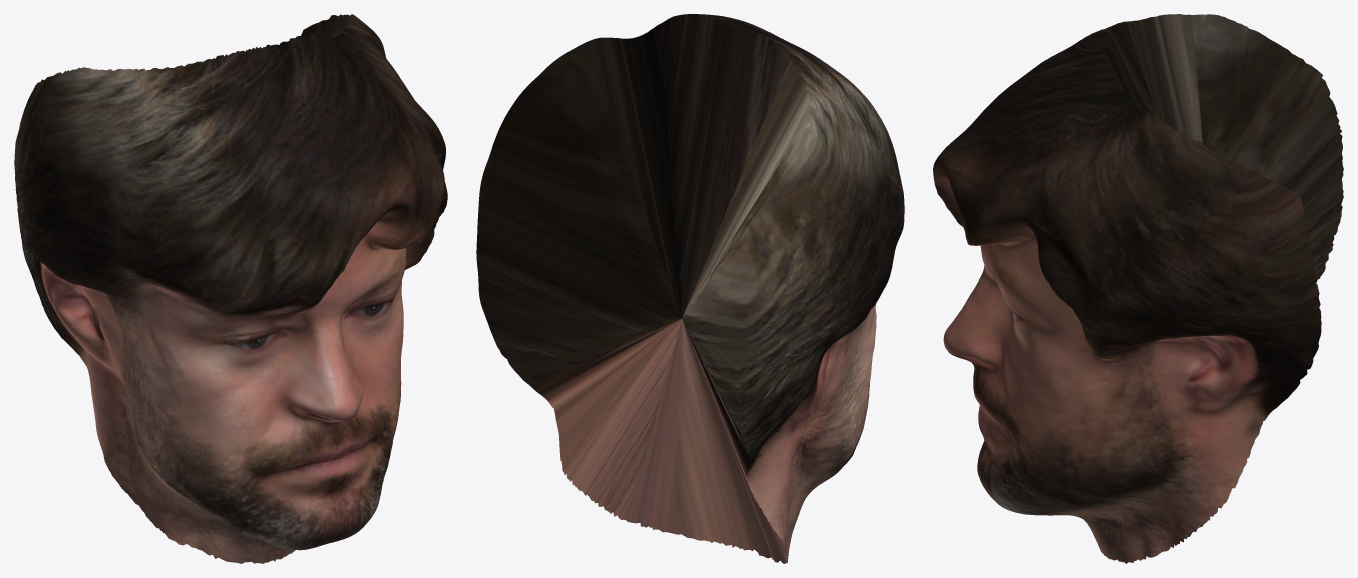
Rendered from aaron.fbx.
The picture shows the model from 3 angles, left to right: view 1: azimuth 30°, elevation 25°; view 2: azimuth 150°, elevation 25°; view 3: azimuth 270°, elevation 25°; orthographic projection. The views are drawn at different scales.
Visible parts, largest first — view 1: head3d:Mesh; view 2: head3d:Mesh; view 3: head3d:Mesh.
Part boxes in pixels (x1,y1,x2,y2): head3d:Mesh: (14, 14, 447, 563); head3d:Mesh: (476, 14, 904, 563); head3d:Mesh: (933, 14, 1343, 563).
Size of the model in its own units: 202 by 279 by 206.
Materials: 1 (1 with a texture image).
